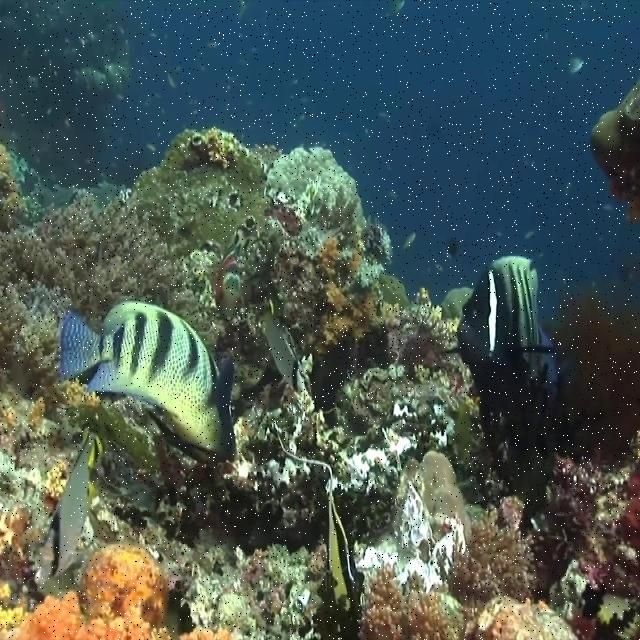fish: (58, 301, 239, 464), (480, 355, 582, 535), (278, 438, 361, 622), (458, 256, 555, 409), (38, 426, 103, 577), (265, 317, 308, 392)
reefs: (0, 148, 225, 405), (448, 519, 537, 597), (364, 566, 450, 639)
